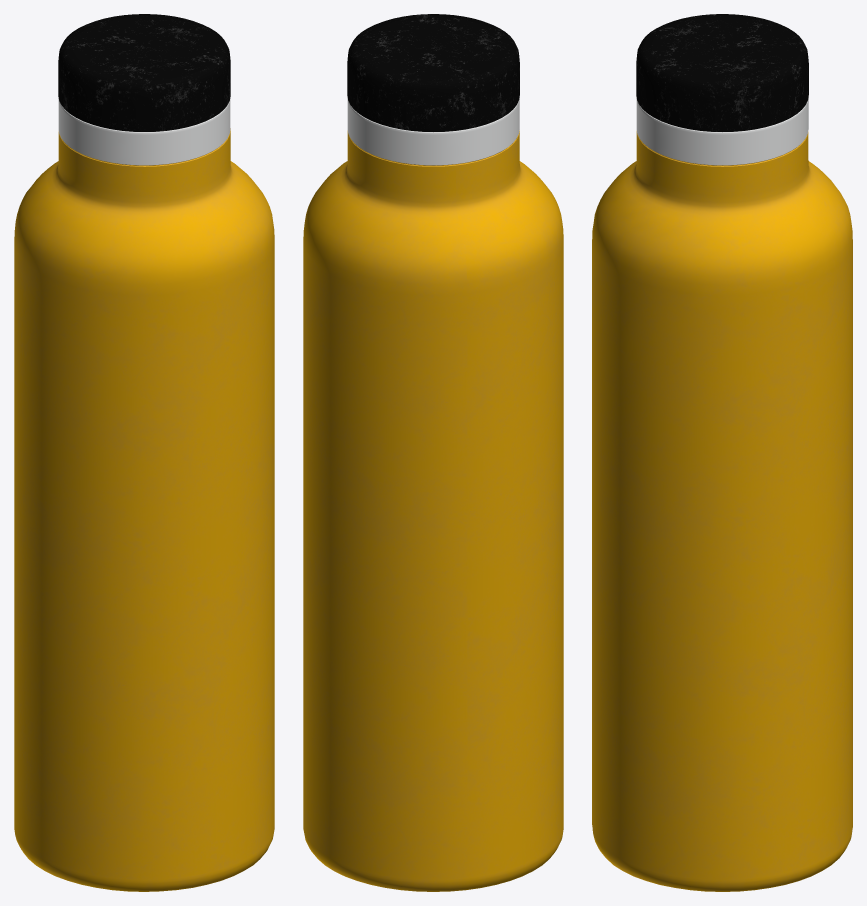
Rendered from bottle.gltf.
The picture shows the model from 3 angles, left to right: view 1: azimuth 30°, elevation 25°; view 2: azimuth 150°, elevation 25°; view 3: azimuth 270°, elevation 25°; orthographic projection.
Parts seen in each view (by area): view 1: Bottle, Lid; view 2: Bottle, Lid; view 3: Bottle, Lid.
Part boxes in pixels (x1,y1,x2,y2): Bottle: (14, 99, 274, 891); Lid: (58, 14, 230, 131); Bottle: (303, 98, 563, 891); Lid: (347, 14, 519, 132); Bottle: (592, 98, 852, 891); Lid: (636, 14, 808, 132).
Size of the model in its own units: 5.6 by 18.77 by 5.6.
Materials: 3 (3 with a texture image).
